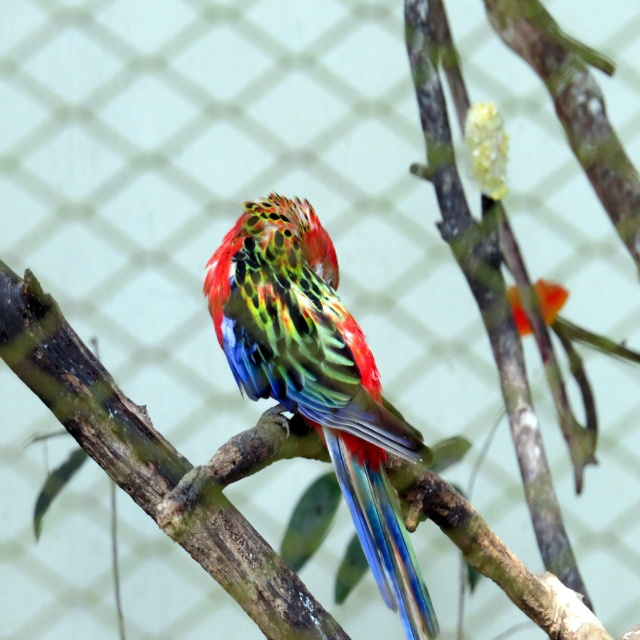Parrot: (201, 188, 444, 639)
